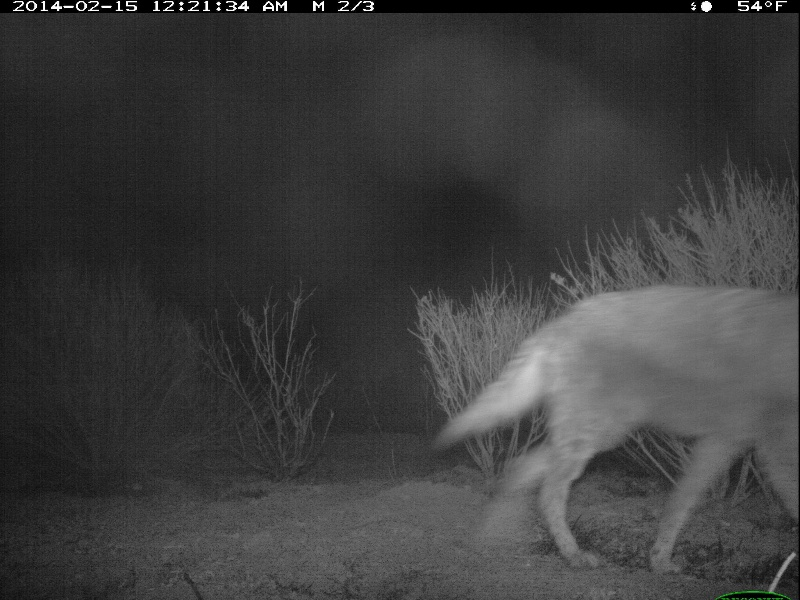coyote: (428, 279, 800, 578)
